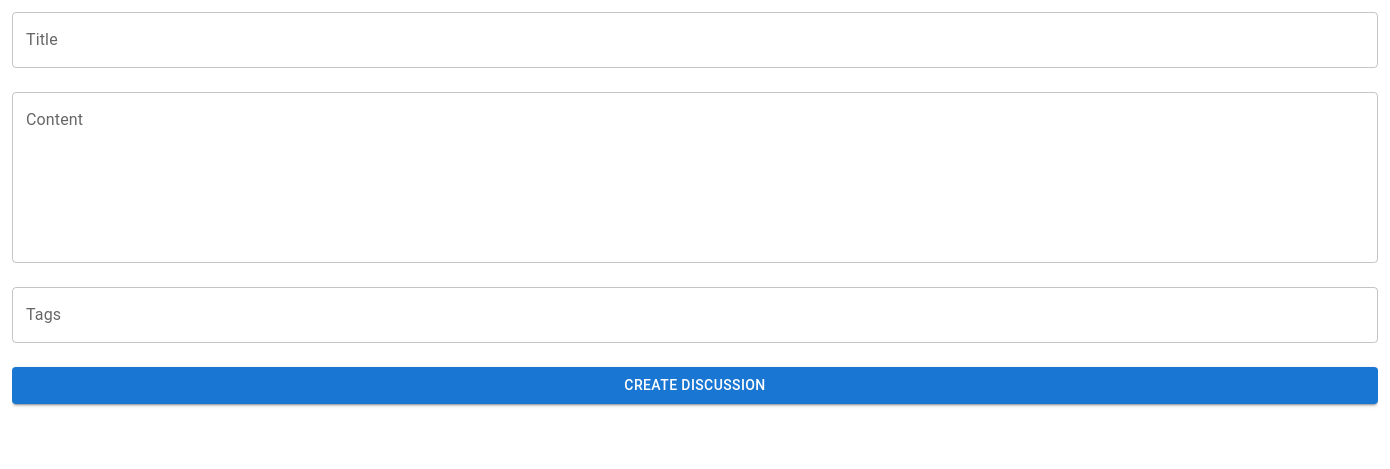
DiscussionForm › shows validation error when content is too short
Type "Short content" into the text box labelled "Content".
click(695, 178); type("Short content")  # box [26,108,1364,246]
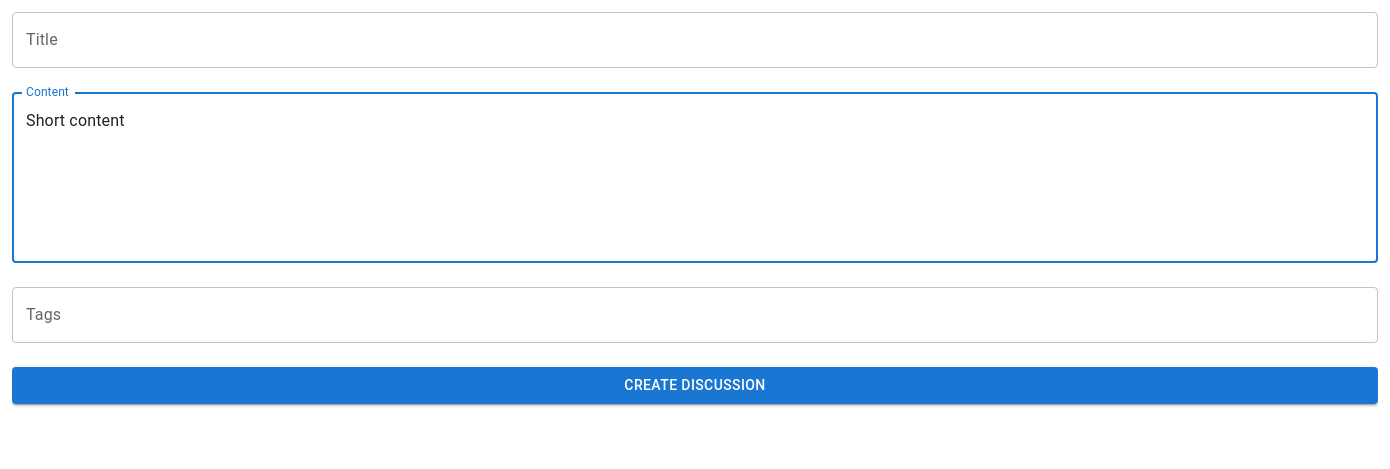
Click the button "Create Discussion".
click(695, 385)  # box [12,367,1378,404]
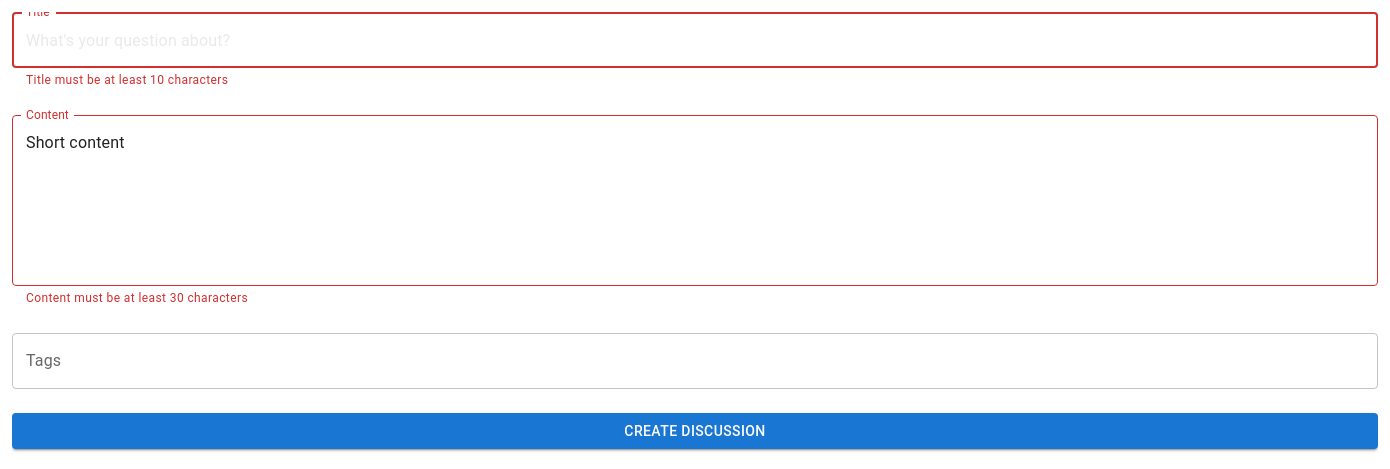
Now the text "Content must be at least 30 characters" is shown, box [26,291,248,305]
